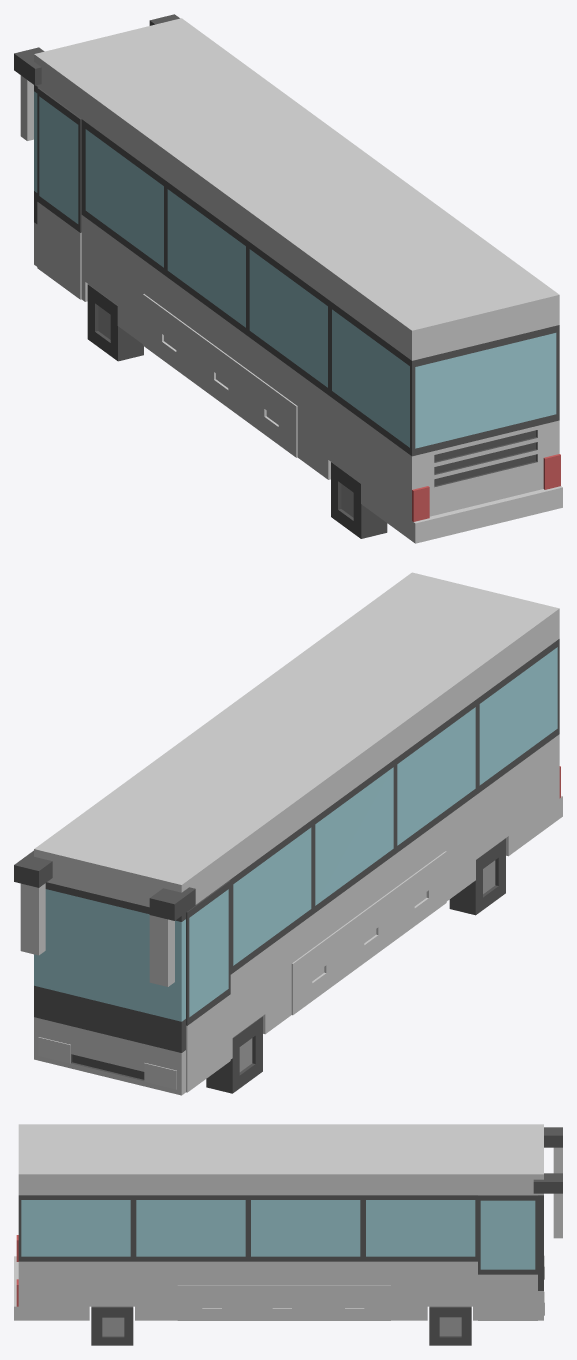
File: avtobus.fbx
3 views of the same model, one above another, from view 1: azimuth 30°, elevation 25°; view 2: azimuth 150°, elevation 25°; view 3: azimuth 270°, elevation 25° (orthographic). The views are drawn at different scales.
Visible parts, largest first — view 1: Camera; view 2: Camera; view 3: Camera.
Boxes of the visible parts, x1=… form: Camera: x1=14, y1=14, x2=562, y2=543; Camera: x1=14, y1=572, x2=562, y2=1095; Camera: x1=14, y1=1124, x2=562, y2=1345.
Size of the model in its own units: 123 by 181 by 523.
